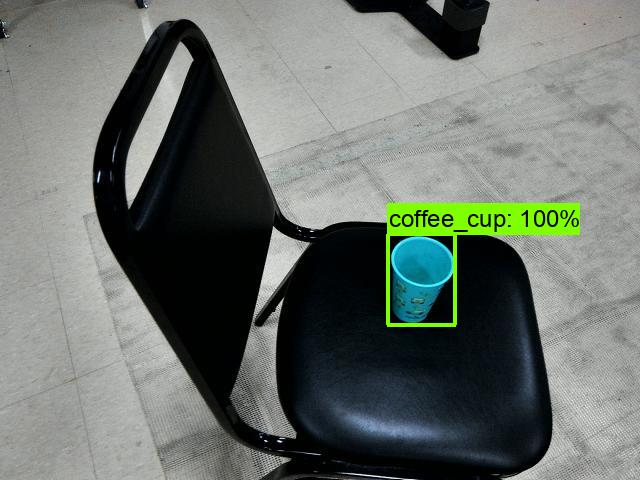coffee_cup: (388, 234, 458, 324)
